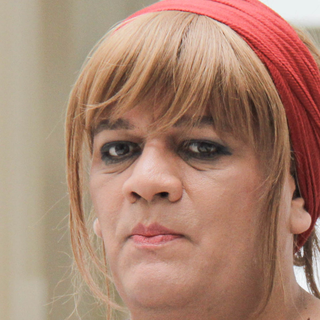eye: (176, 133, 233, 166), (96, 139, 145, 165)
